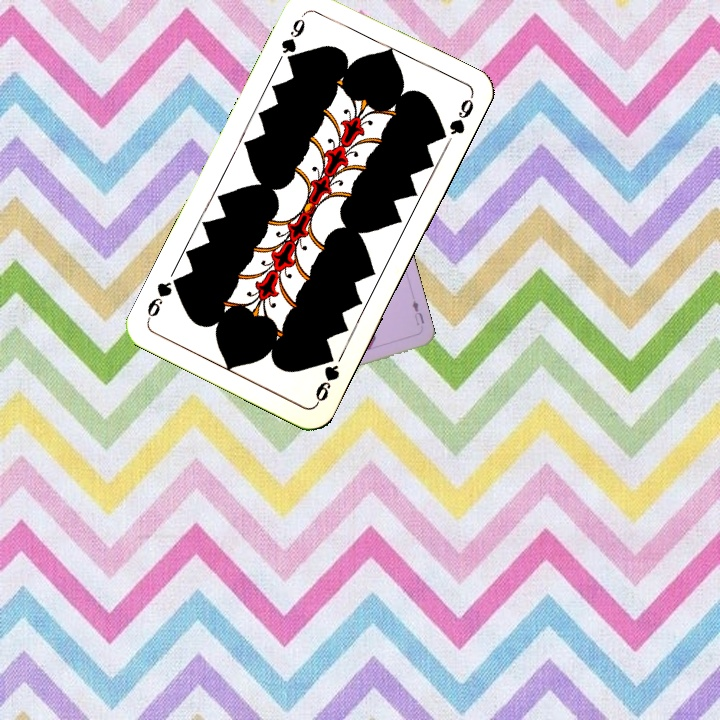EU: (408, 296, 427, 328)
G9: (311, 348, 342, 408), (277, 9, 308, 68)
